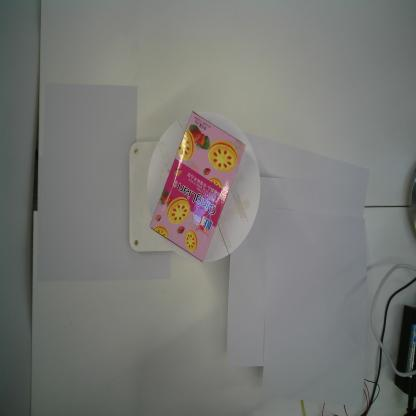Dessert: (148, 110, 247, 263)
